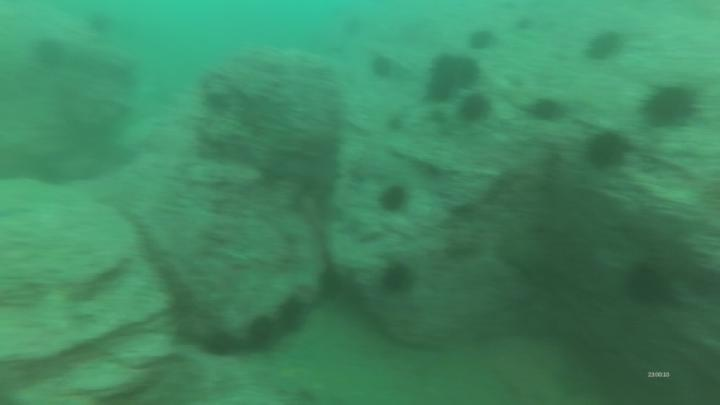echinus: (431, 57, 476, 100), (647, 93, 690, 125), (630, 267, 663, 305), (585, 131, 620, 166), (590, 33, 621, 61), (463, 94, 490, 120), (38, 42, 66, 67), (533, 99, 561, 122), (283, 300, 302, 333), (384, 263, 408, 289), (206, 329, 231, 353), (250, 316, 273, 338), (383, 188, 405, 210), (468, 30, 490, 49), (374, 57, 394, 76)
